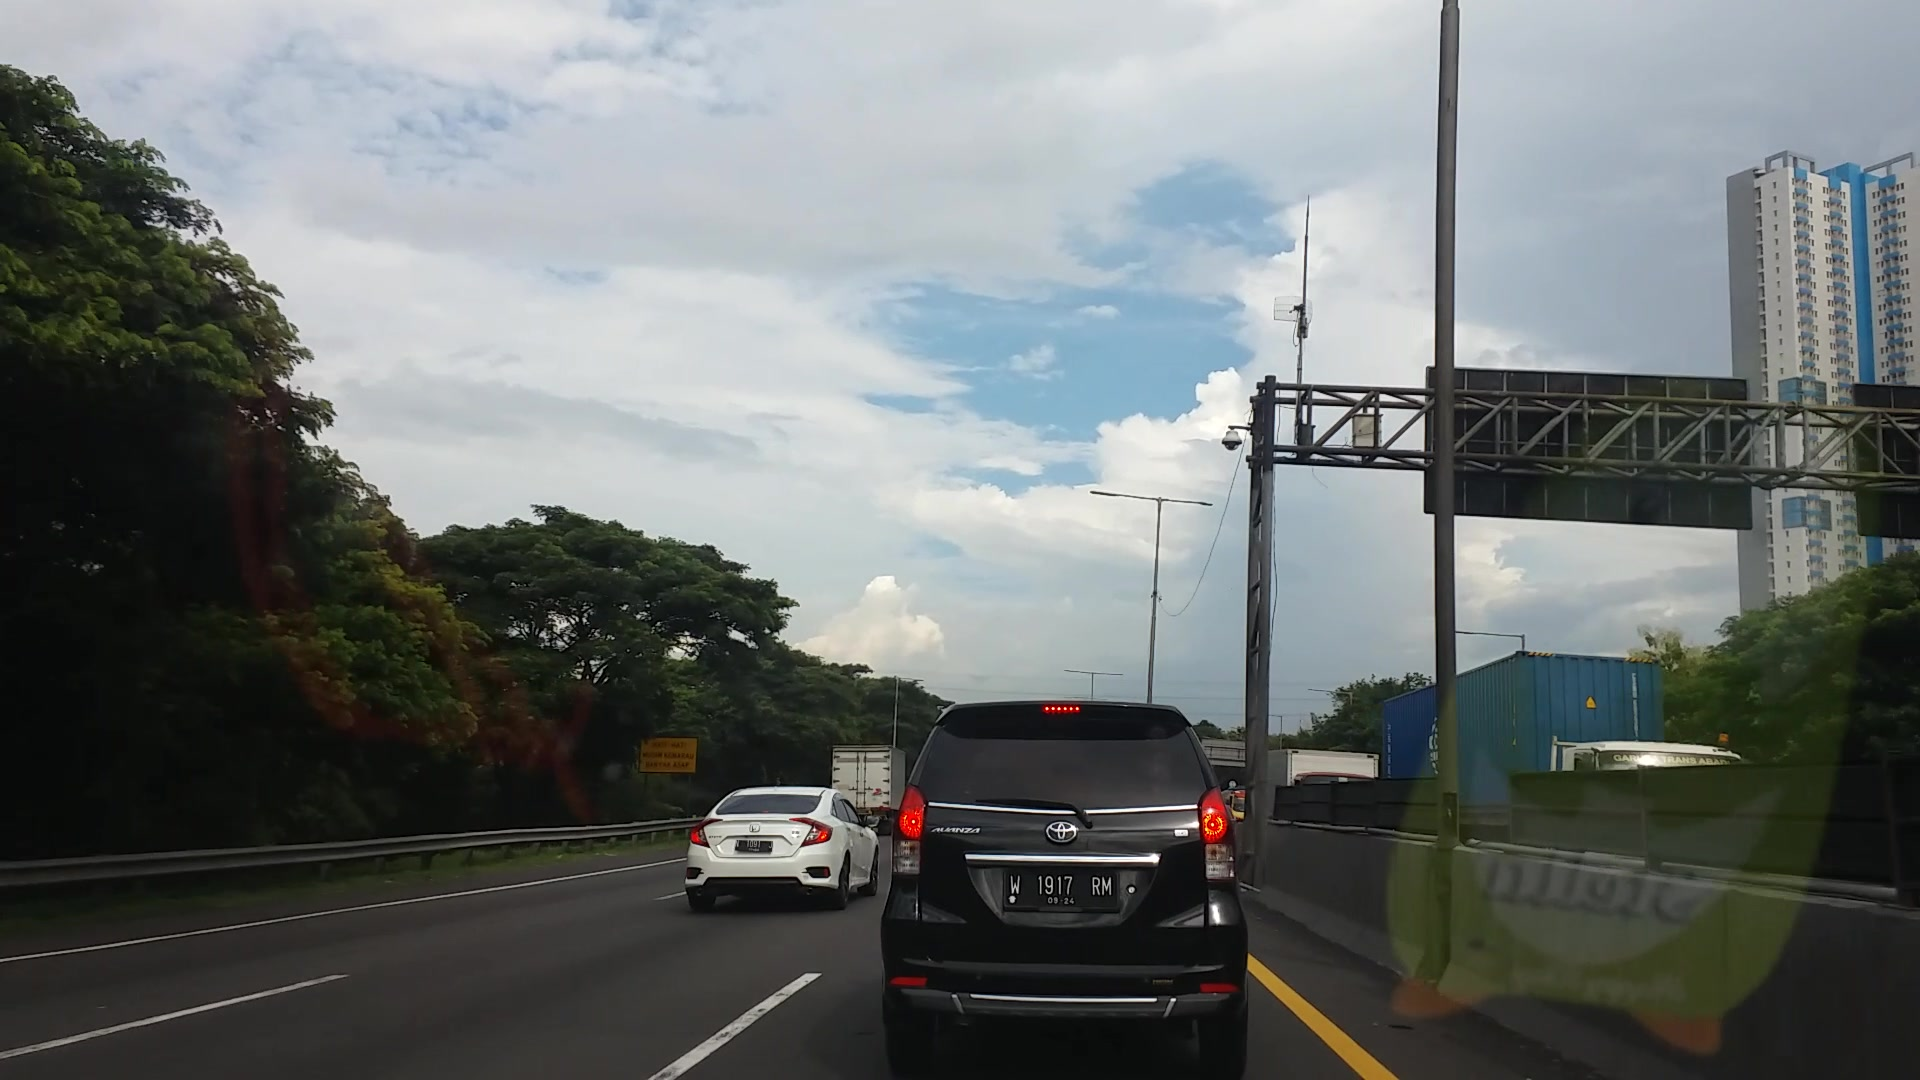plate_positive: (1004, 866, 1118, 913)
